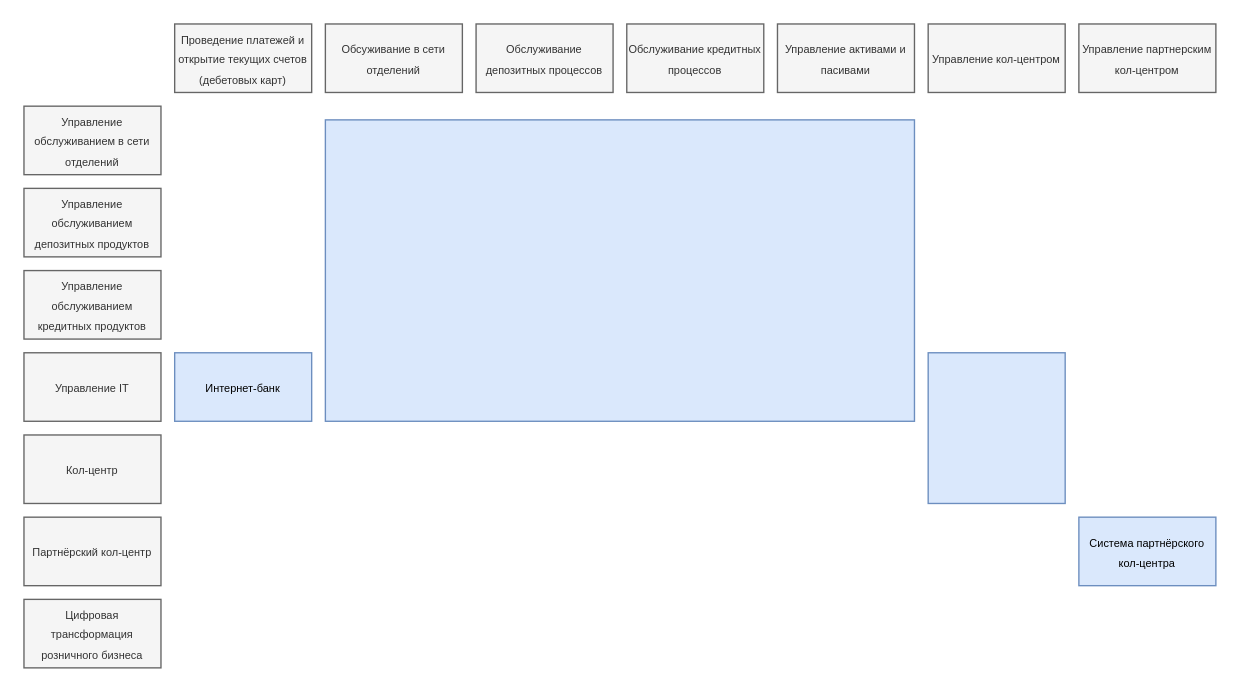
Some shapes in this 1240 by 692 pixel diagram are drawn without their labels. Here are the shapes that lost their labels. From the top down, the centre of each, then its label:
the point at 619,270: Автоматизированная банковская система (АБС)
the point at 996,427: Система кол-центра
